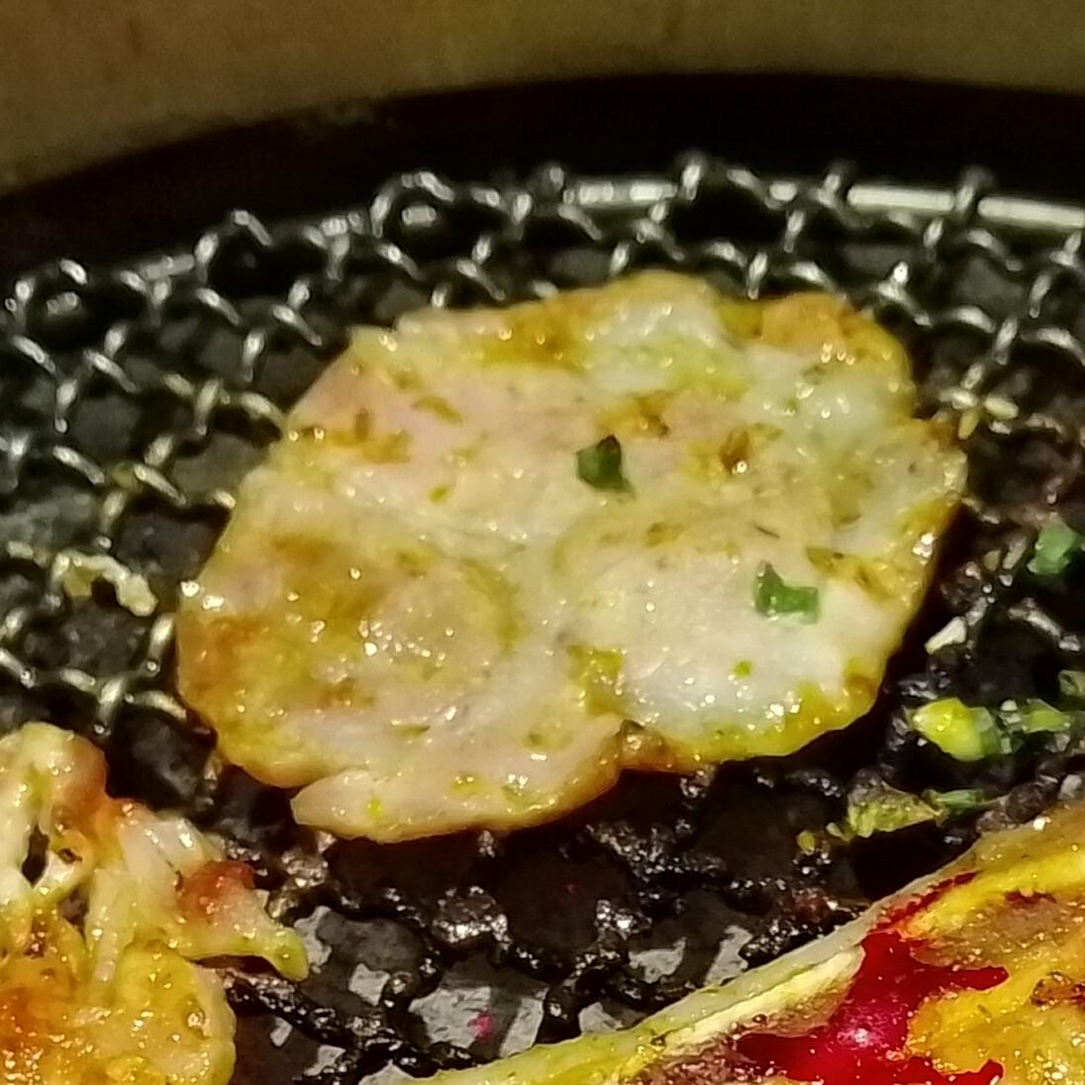Well-Cooked: (174, 268, 965, 847), (495, 803, 1085, 1085), (0, 730, 316, 1035), (0, 902, 238, 1084)
